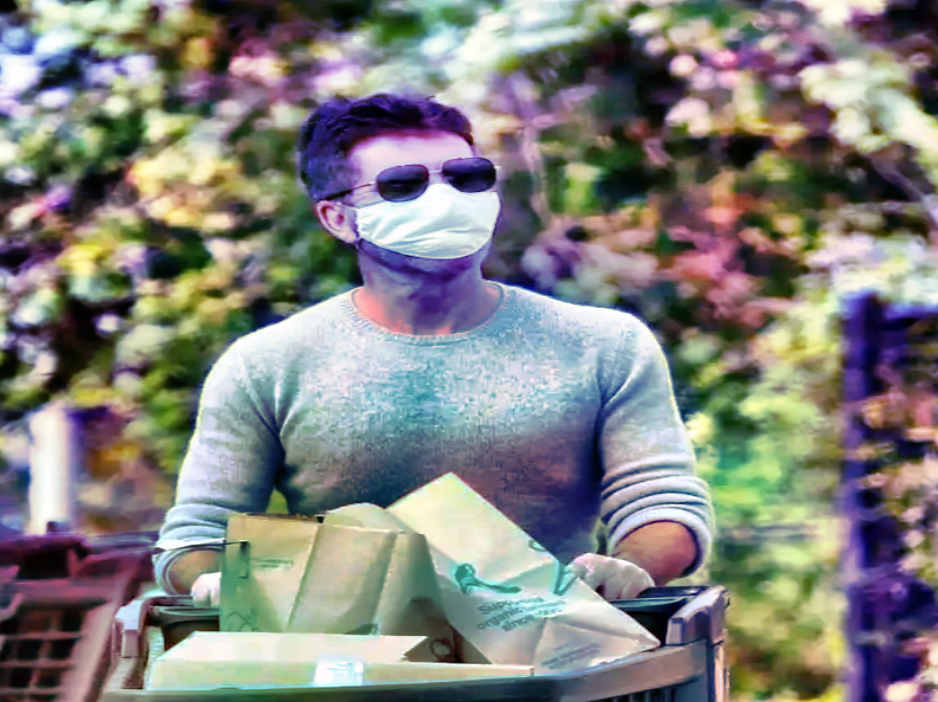mask_weared_incorrect: (296, 98, 508, 280)
